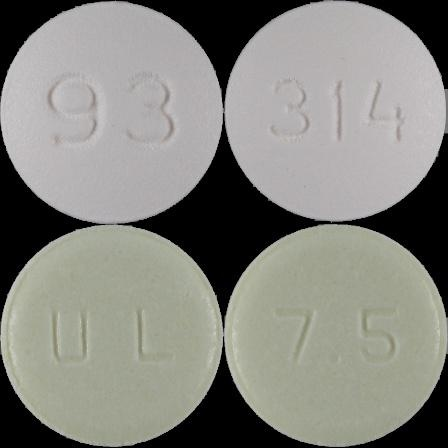33261-065: (0, 0, 224, 224)
